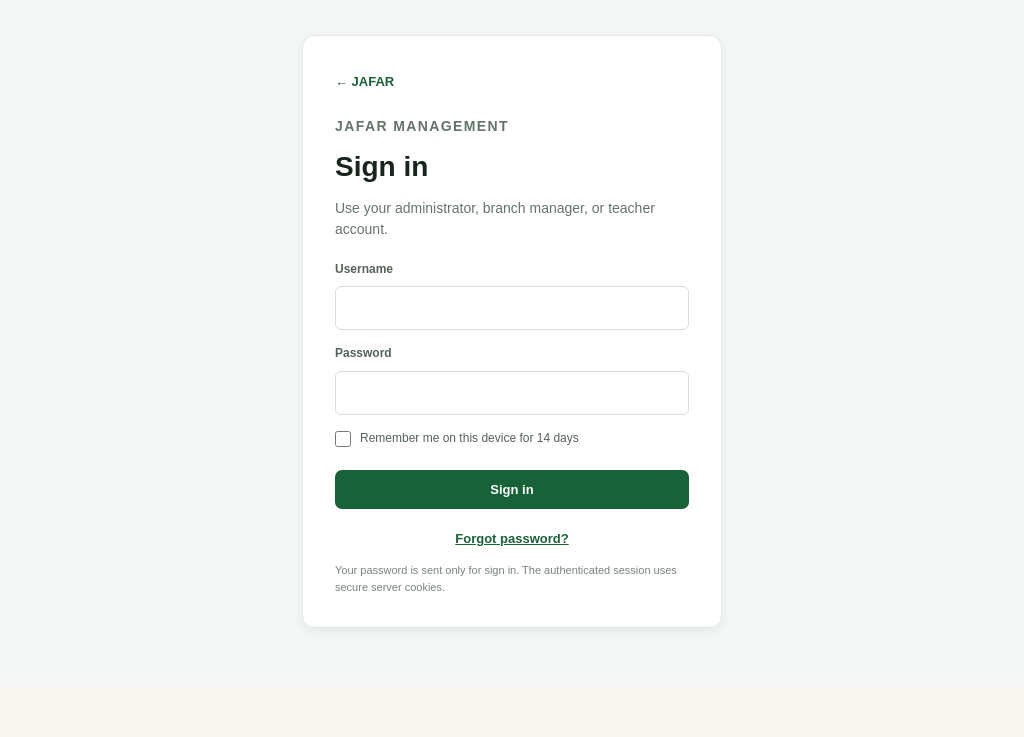
Test: Student attendance recording › the attendance form offers all 4 statuses and surfaces a duplicate-record error from the API
Expected: the heading "Sign in" is shown, [335,151,428,182]
Type "admin" into the field labelled "Username". click: (512, 308)
box: [335,286,689,330]
Type "admin1234" into the password field labelled "Password". click: (512, 393)
box: [335,371,689,415]
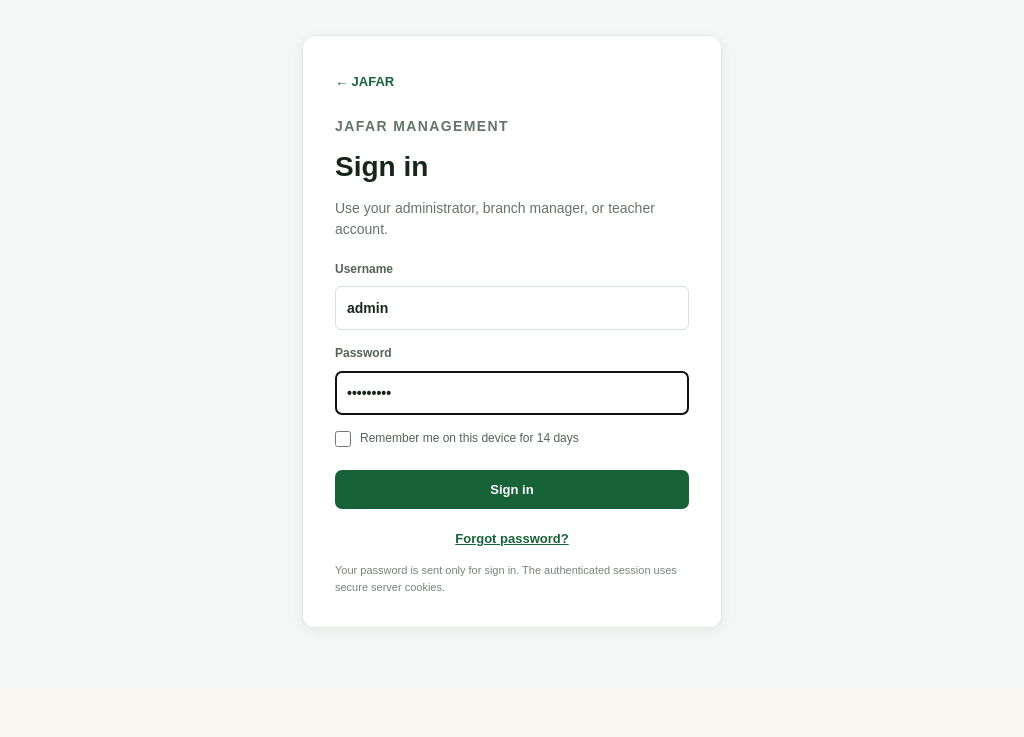
Click the button "Sign in". click: (512, 490)
box: [335,470,689,509]
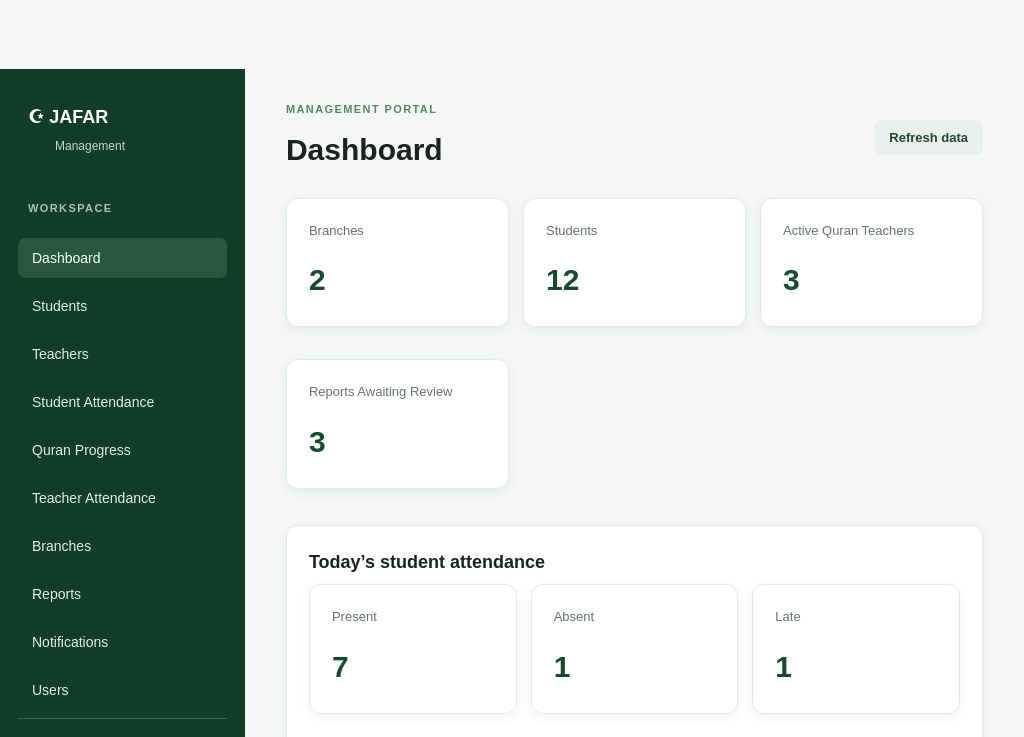
Now the heading "Dashboard" is shown, box [286,126,443,174]
Click the button "Student Attendance". click: (122, 402)
box: [18,382,227,422]
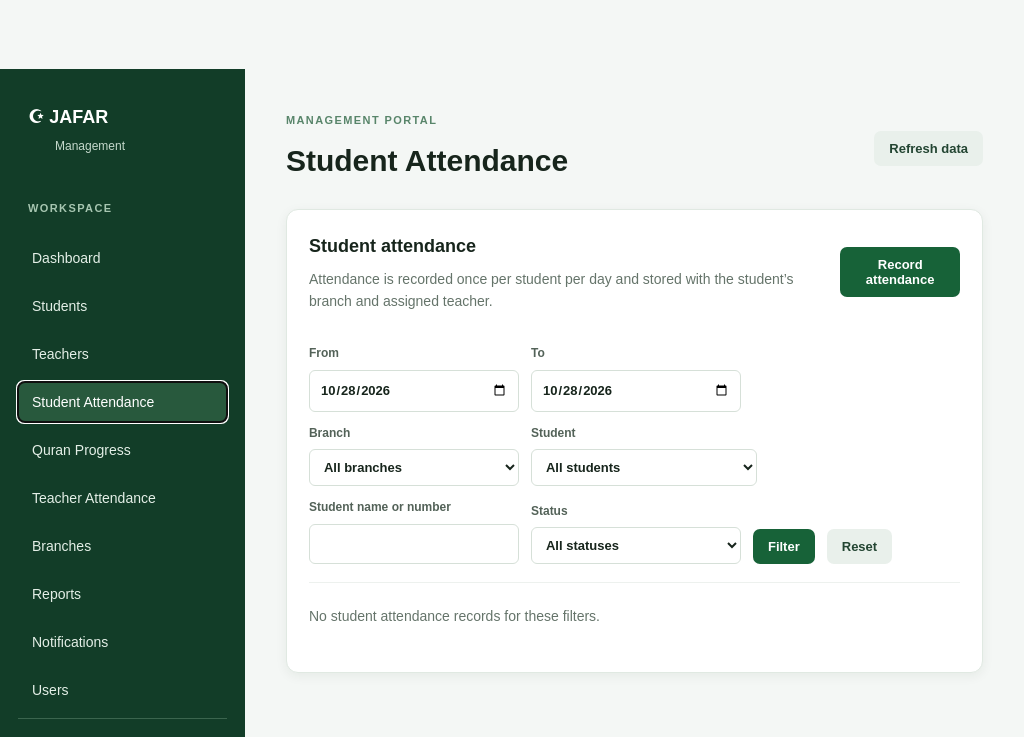
Now the heading "Student Attendance" is shown, box [286,137,568,185]
Click the button "Record attendance". click: (900, 272)
box: [840,247,960,297]
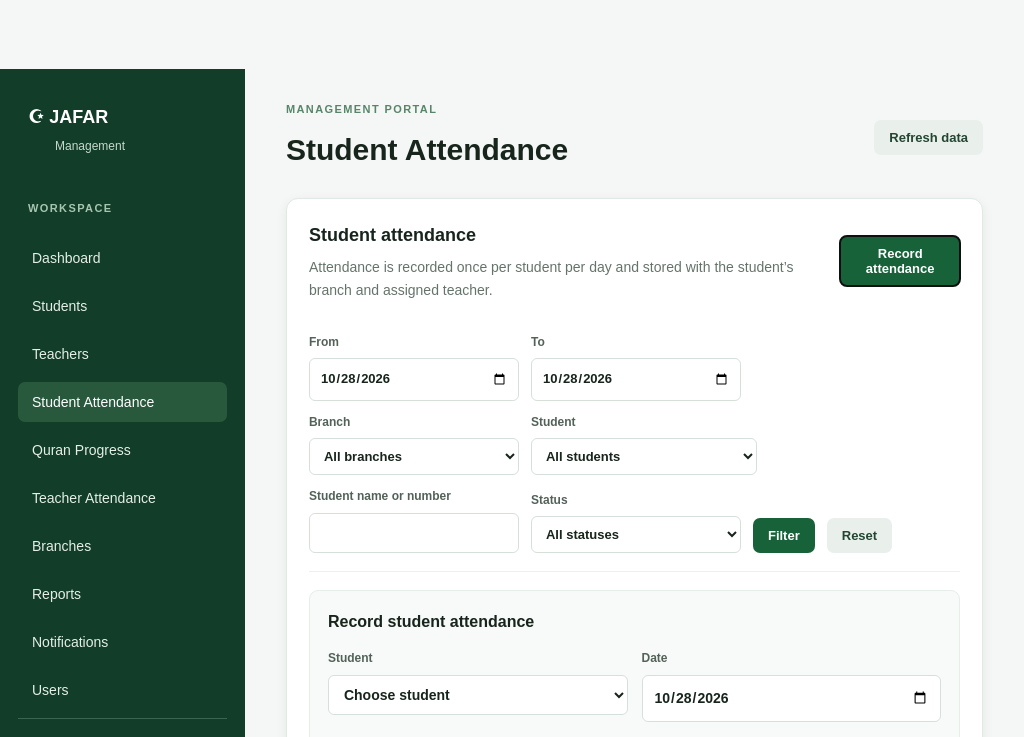
Select "Ahmed Mohammed · STD-001" in the dropdown labelled "Student" below "Date". click: (478, 695)
box: [328,675,628,715]
(page scrolled)
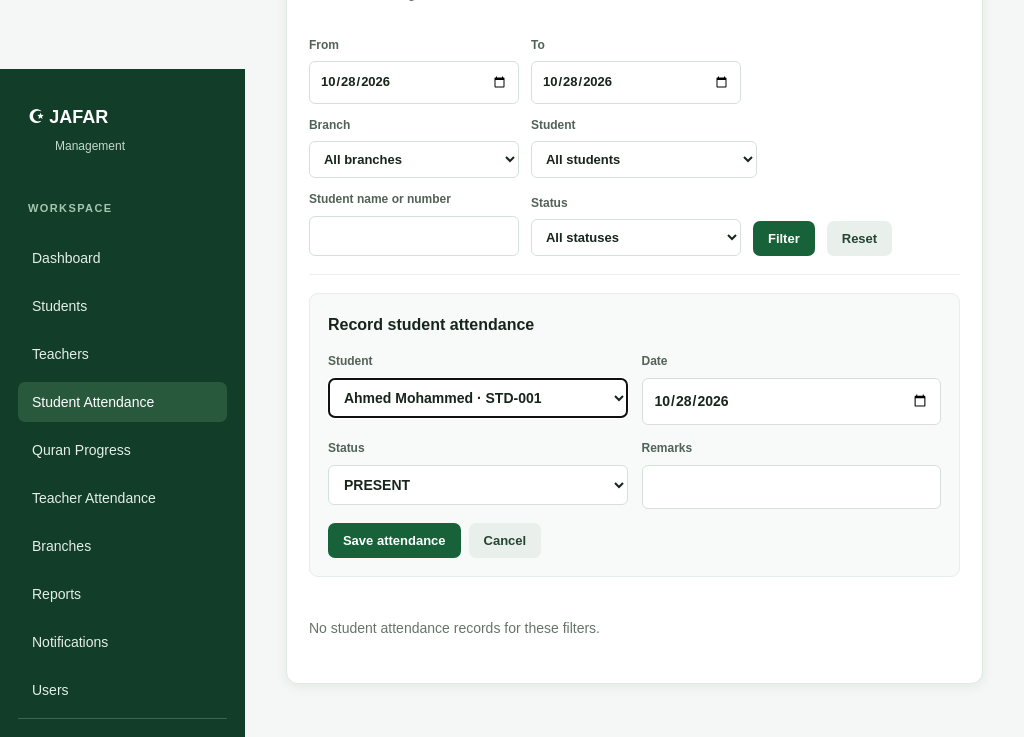
Click the button "Save attendance". click: (394, 541)
box: [328,523,461,558]
(page scrolled)
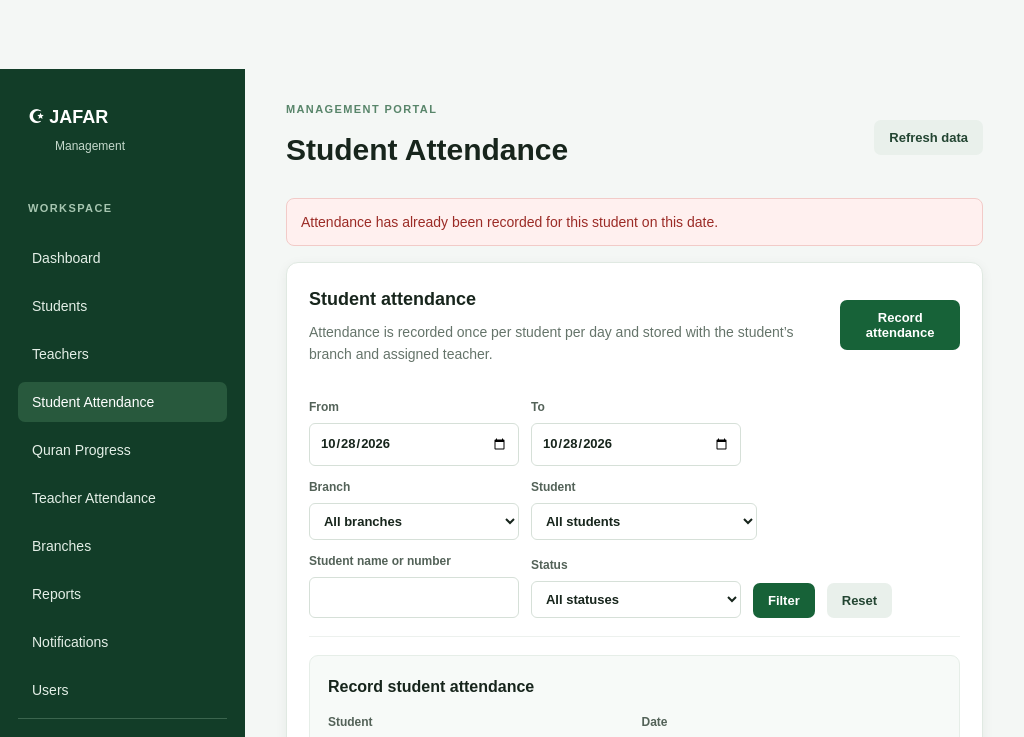
Now the message reads "Attendance has already been recorded for this student on this date.", box [301,214,718,230]
